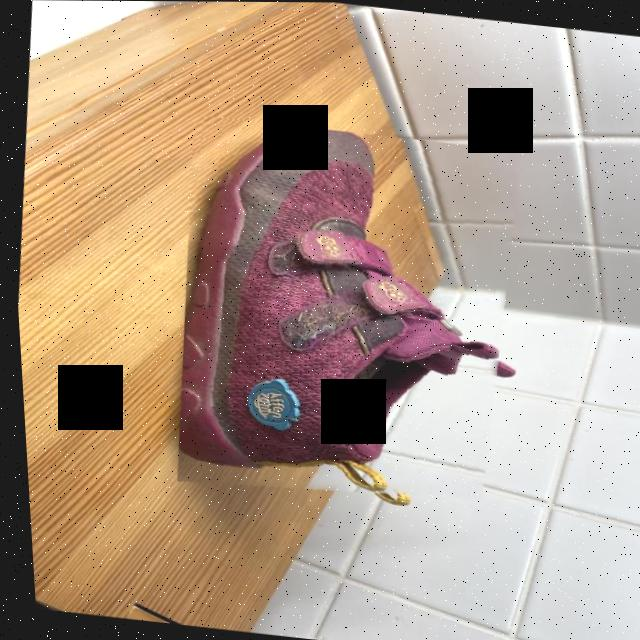shoe: (153, 113, 538, 518)
